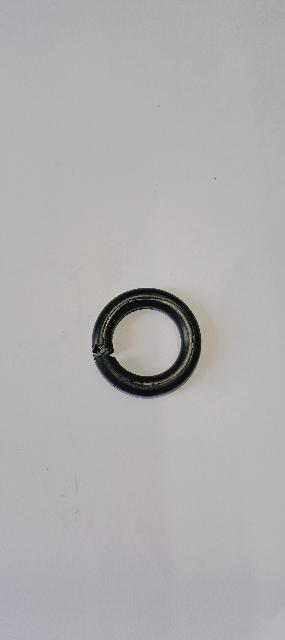crack: (87, 339, 121, 365)
scratch: (99, 293, 196, 391)
